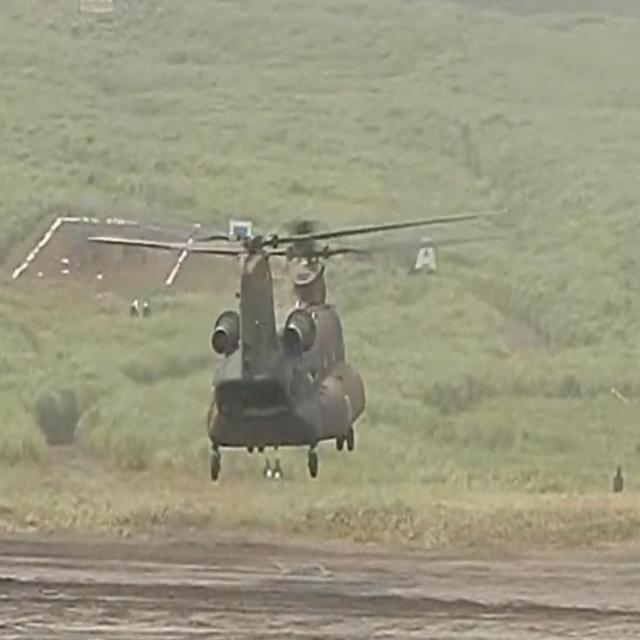Helicopter: (161, 182, 392, 472)
